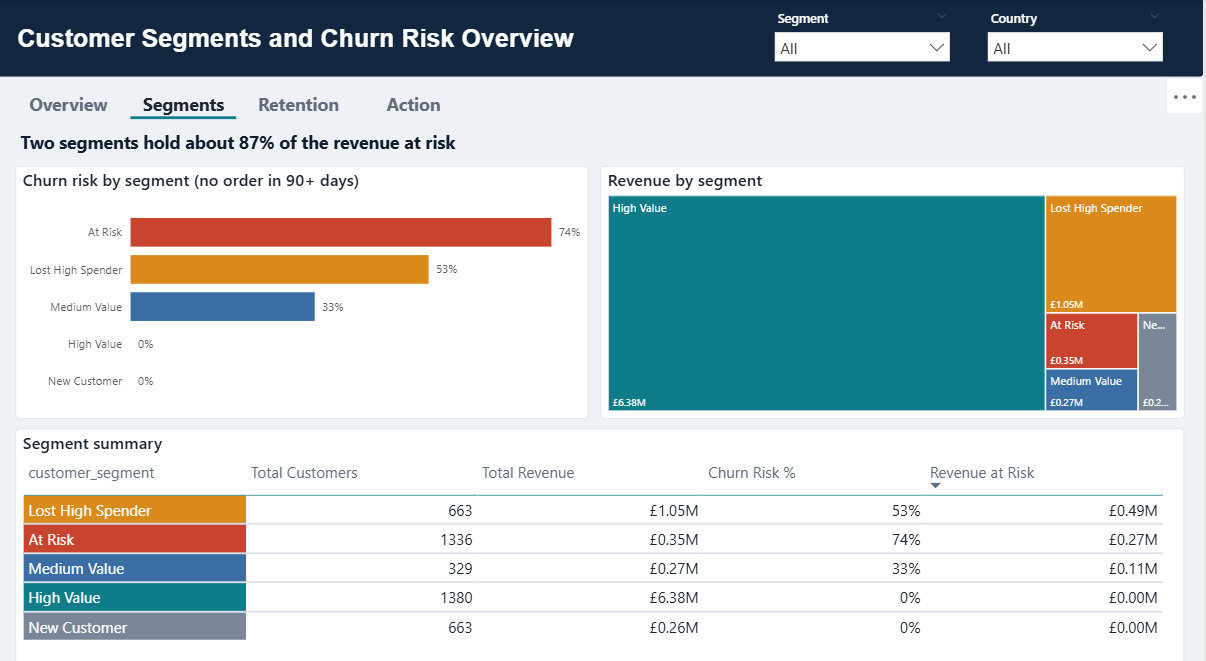

Layout of this report page (visuals, bound fields, positions):
{"tool":"powerbi","page":{"name":"Segments","canvas":[1280,720],"ordinal":1},"visuals":[{"type":"clusteredBarChart","title":"Churn risk by segment (no order in 90+ days)","fields":{"Category":["rfm_segments_202609240918_SKU.customer_segment"],"Y":["rfm_segments_202609240918_SKU.Churn Risk %"]},"box":[20.9,177.5,607.2,268],"z":0},{"type":"treemap","title":"Revenue by segment","fields":{"Group":["rfm_segments_202609240918_SKU.customer_segment"],"Values":["rfm_segments_202609240918_SKU.Total Revenue"]},"box":[640.3,177.5,619.4,268],"z":1000},{"type":"tableEx","title":"Segment summary","fields":{"Values":["rfm_segments_202609240918_SKU.customer_segment","rfm_segments_202609240918_SKU.Total Customers","rfm_segments_202609240918_SKU.Total Revenue","rfm_segments_202609240918_SKU.Churn Risk %","rfm_segments_202609240918_SKU.Revenue at Risk"]},"box":[20.7,456.5,1239.1,251.3],"z":2000},{"type":"textbox","box":[0,0,1280.8,84.2],"z":3000},{"type":"slicer","fields":{"Values":["rfm_segments_202609240918_SKU.customer_segment"]},"box":[816,6.4,205.2,70],"z":4000},{"type":"slicer","fields":{"Values":["rfm_segments_202609240918_SKU.Country"]},"box":[1041.9,6.4,205.2,70],"z":5000},{"type":"pageNavigator","box":[20.7,95,480.4,33.4],"z":6000},{"type":"textbox","box":[20.7,135,723.7,42.9],"z":7000}]}

Visuals, with their boxes on the page's 1280x720 design canvas (x1, y1, x2, y2). These are canvas units, not pixel positions in the 1206x661 screenshot, which may show the page scaled, cropped or inside an application window:
"Churn risk by segment (no order in 90+ days)" clusteredBarChart: bbox(21, 178, 628, 446)
"Revenue by segment" treemap: bbox(640, 178, 1260, 446)
"Segment summary" tableEx: bbox(21, 456, 1260, 708)
textbox: bbox(0, 0, 1281, 84)
slicer - rfm_segments_202609240918_SKU.customer_segment: bbox(816, 6, 1021, 76)
slicer - rfm_segments_202609240918_SKU.Country: bbox(1042, 6, 1247, 76)
pageNavigator: bbox(21, 95, 501, 128)
textbox: bbox(21, 135, 744, 178)
